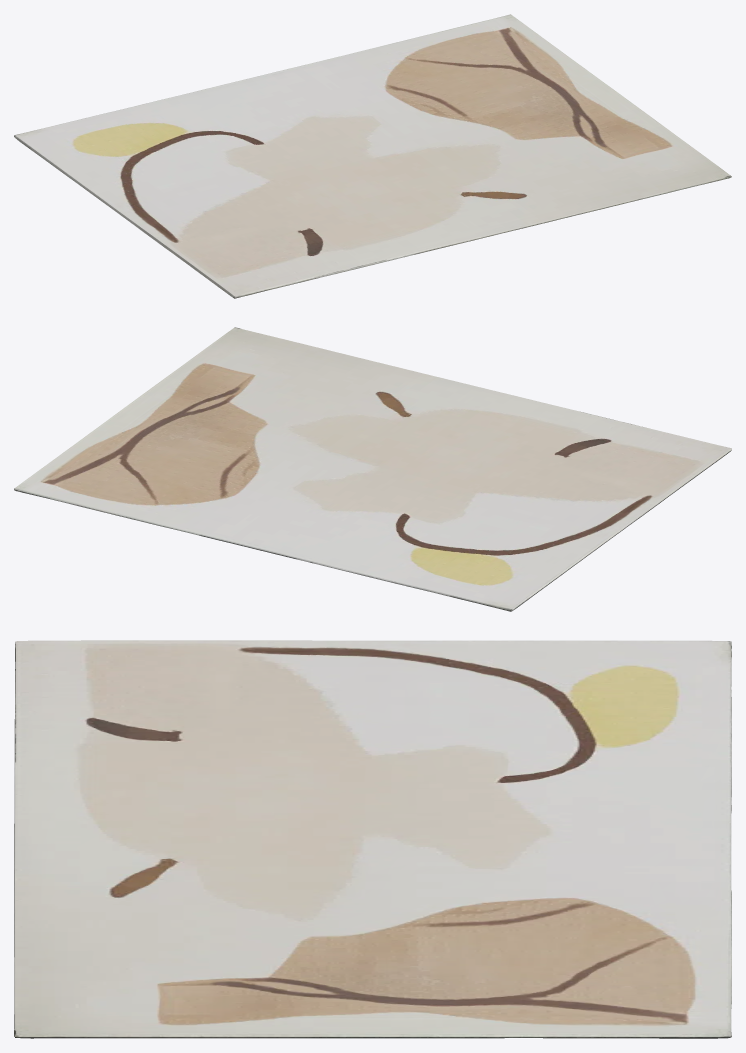
The model's file is 331240c0-e10f-4cae-947f-9b81a68f6ab4.glb.
3 renders of one model, top to bottom at view 1: azimuth 30°, elevation 25°; view 2: azimuth 150°, elevation 25°; view 3: azimuth 270°, elevation 25°, orthographic. The views are drawn at different scales.
Parts seen in each view (by area): view 1: world; view 2: world; view 3: world.
Part boxes in pixels (x1=…): world: x1=14, y1=14, x2=731, y2=298; world: x1=14, y1=327, x2=731, y2=611; world: x1=14, y1=640, x2=731, y2=1038.
Bounding box in the file's own units: 1 × 0.00638 × 0.7709.
1 material, 1 textured.
